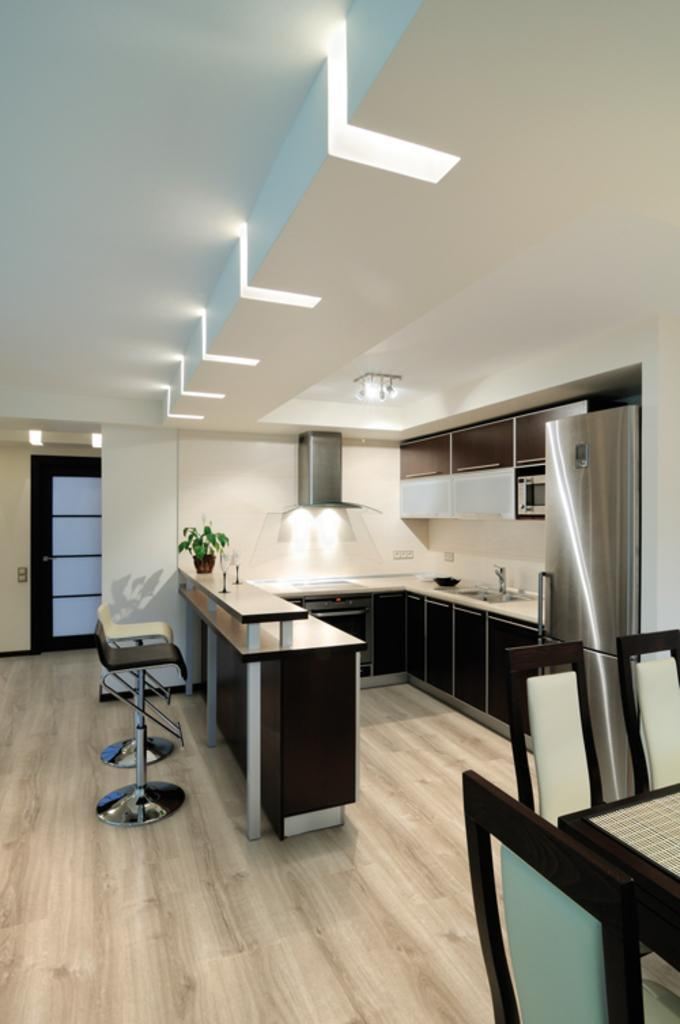door: (30, 454, 103, 650)
